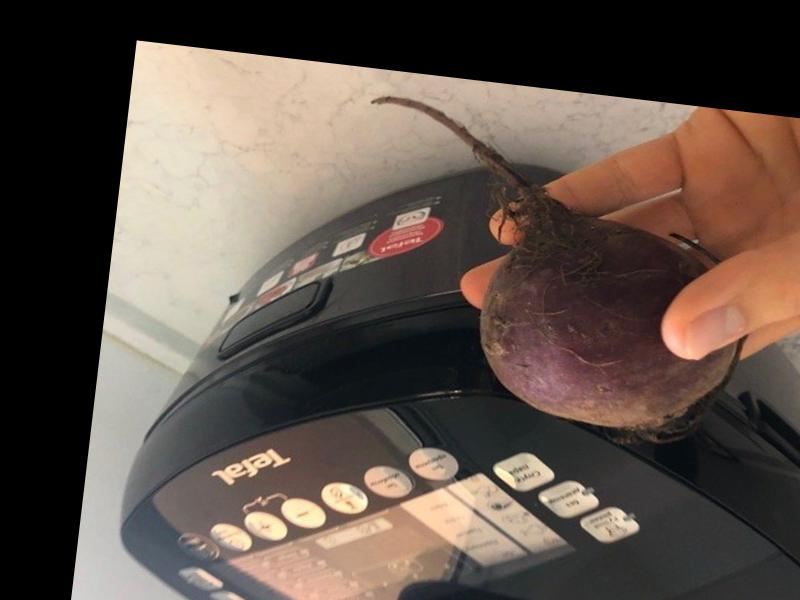Beet: (337, 96, 766, 454)
